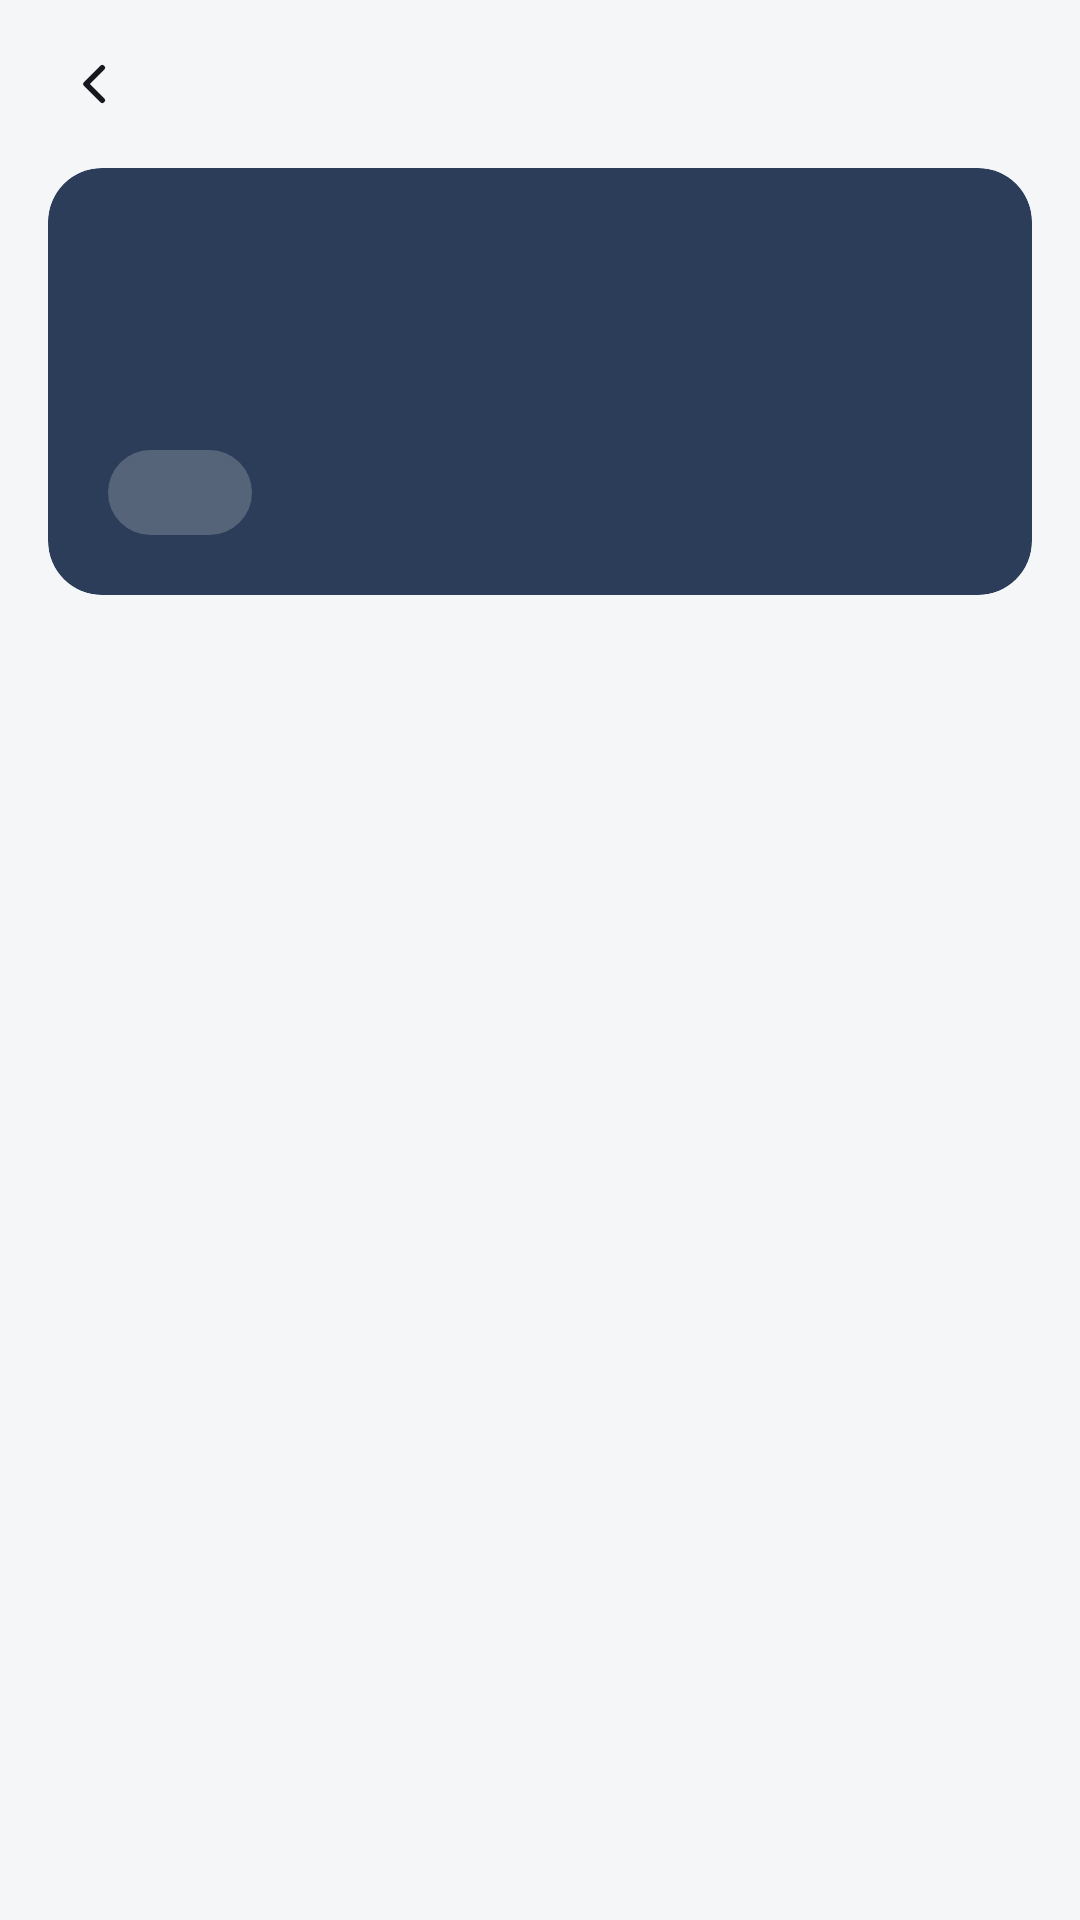

Screen size 1080px×1920px. Icon name, then its box in pixels as detection(x1, y1, x2, y2):
返回: detection(83, 64, 106, 104)
